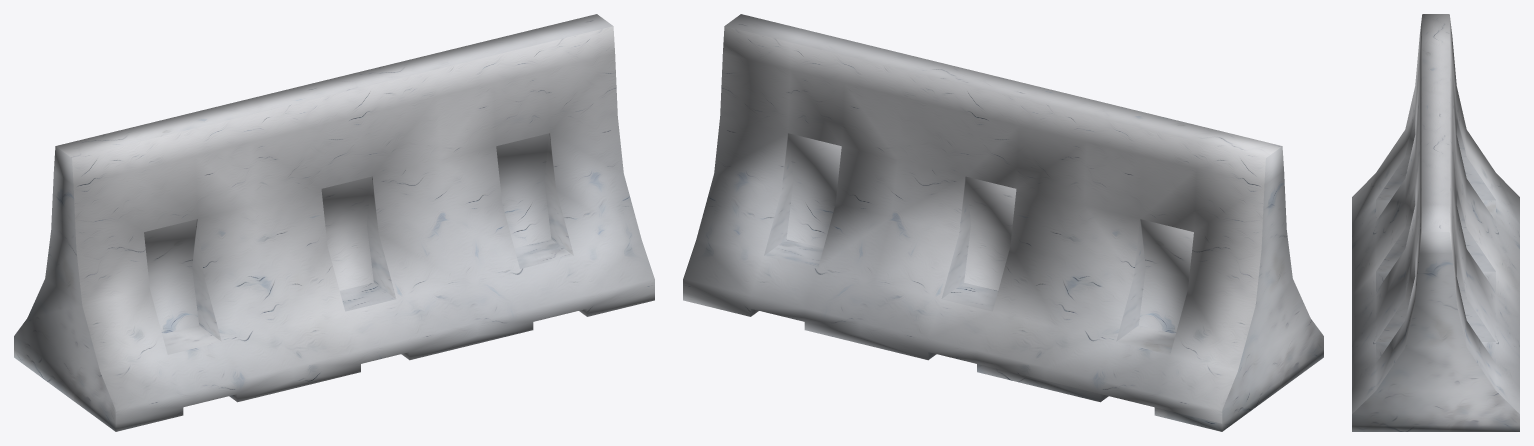
Rendered from Barrier.fbx.
3 views of the same model, side by side, from view 1: azimuth 30°, elevation 25°; view 2: azimuth 150°, elevation 25°; view 3: azimuth 270°, elevation 25° (orthographic). The views are drawn at different scales.
Visible parts, largest first — view 1: Barrier; view 2: Barrier; view 3: Barrier.
Part boxes in pixels (x1,y1,x2,y2): Barrier: [14, 14, 654, 431]; Barrier: [683, 14, 1323, 431]; Barrier: [1352, 14, 1519, 431].
Bounding box in the file's own units: 180 × 77.15 × 58.54.
